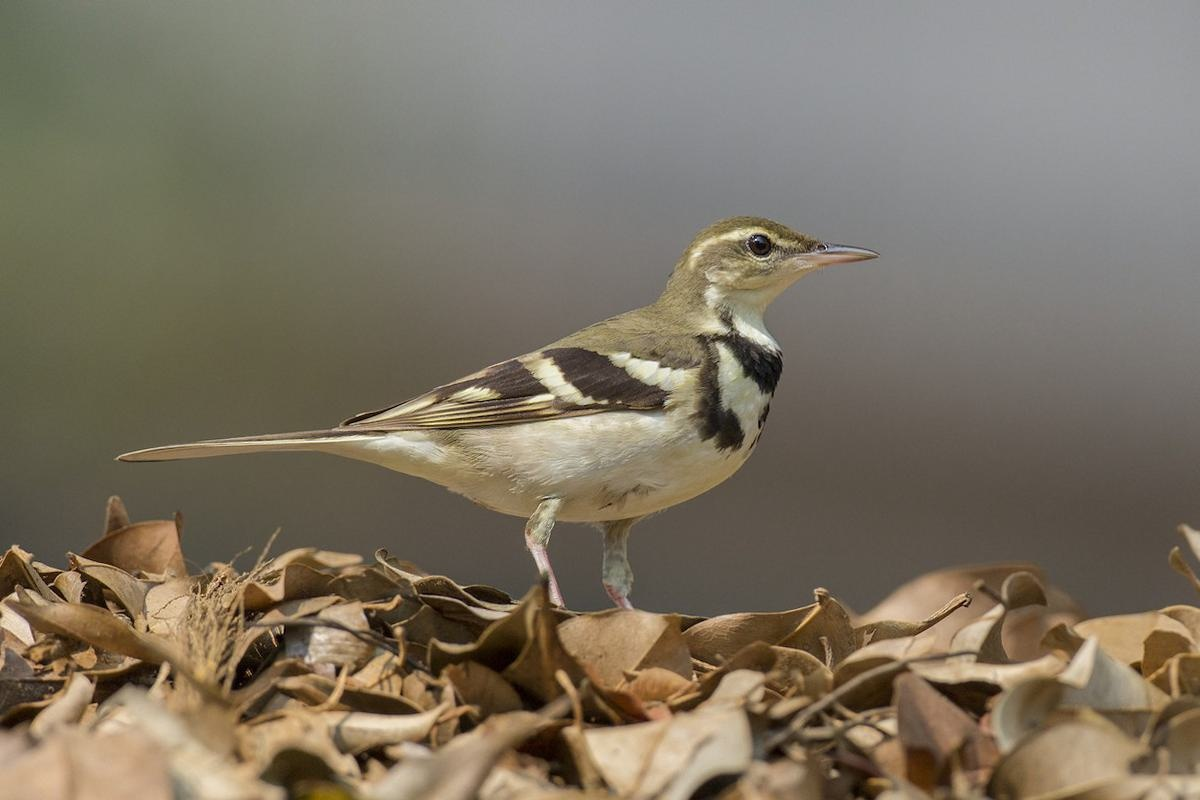wagtail: (116, 188, 934, 600)
